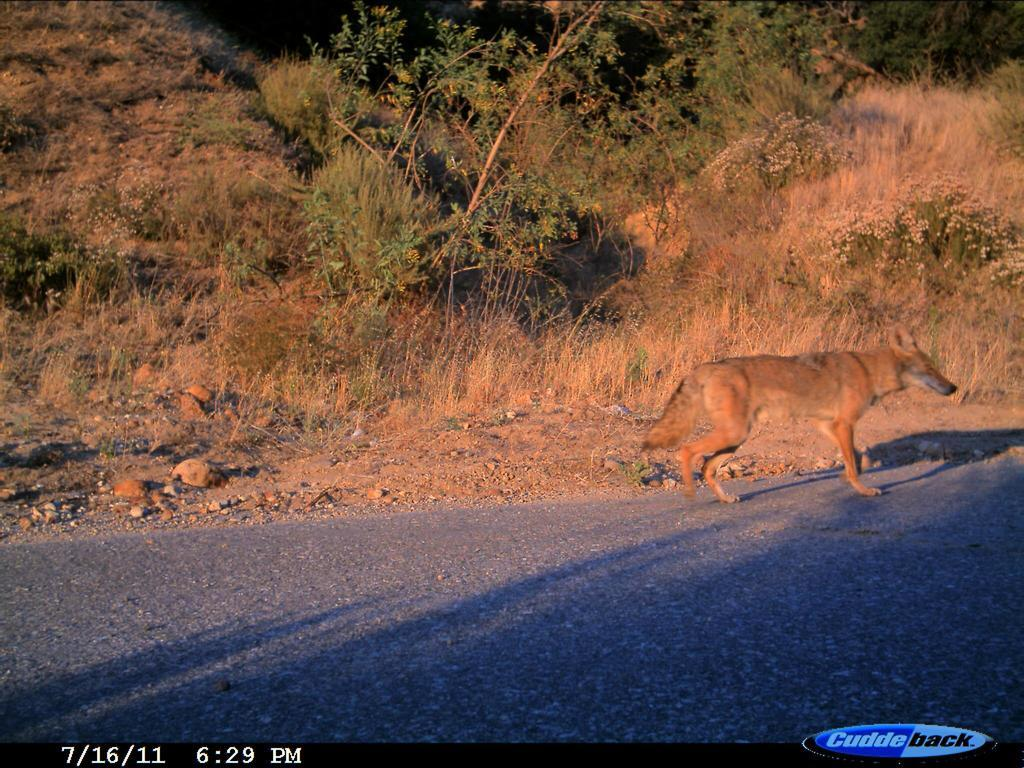coyote: (609, 309, 966, 518)
